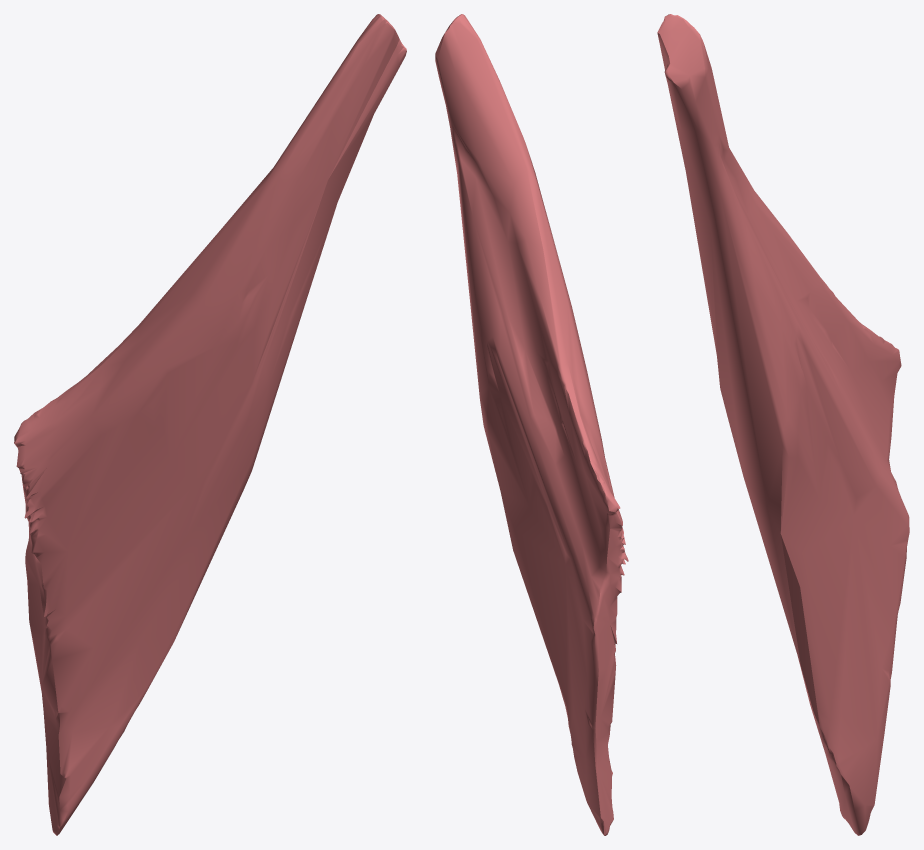
The picture shows the model from 3 angles, left to right: view 1: azimuth 30°, elevation 25°; view 2: azimuth 150°, elevation 25°; view 3: azimuth 270°, elevation 25°; orthographic projection. The views are drawn at different scales.
Parts seen in each view (by area): view 1: FJ1401; view 2: FJ1401; view 3: FJ1401.
Boxes of the visible parts, x1,y1,x2,y2 form: FJ1401: (14,14,406,835); FJ1401: (435,14,628,835); FJ1401: (657,14,909,835).
Bounding box in the file's own units: 0.075 × 0.1958 × 0.0466.
